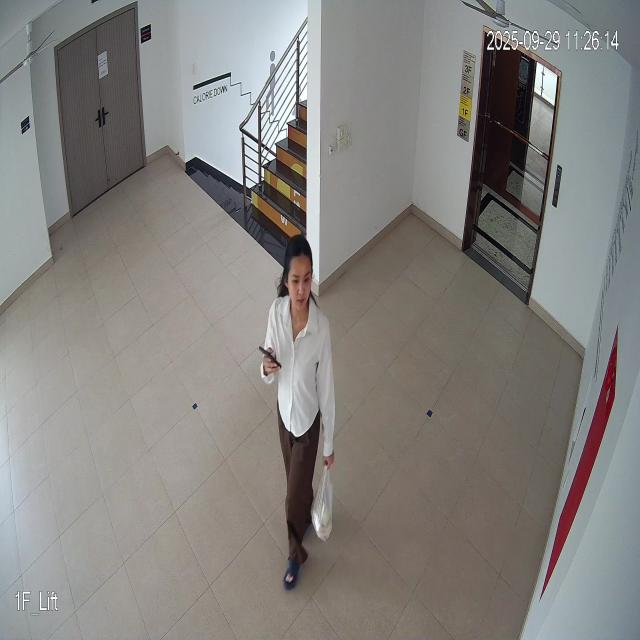face: (282, 244, 317, 316)
